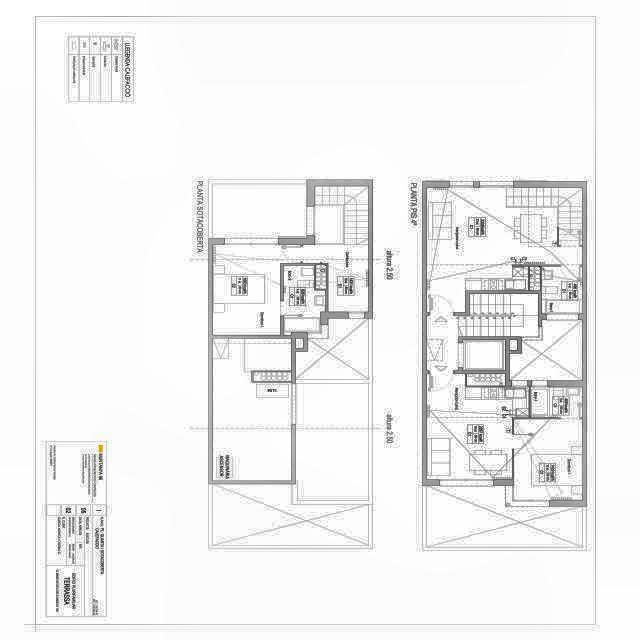room: (427, 188, 582, 264), (212, 338, 292, 481), (427, 374, 529, 480), (213, 245, 301, 335), (514, 419, 583, 500), (426, 265, 528, 313), (302, 246, 369, 312), (510, 320, 582, 381), (458, 294, 538, 337), (316, 186, 368, 245), (283, 265, 326, 336), (542, 266, 583, 314), (427, 316, 458, 370), (531, 387, 582, 418), (463, 340, 505, 370), (467, 374, 505, 386), (253, 372, 291, 381), (530, 266, 540, 290), (316, 265, 326, 289), (509, 340, 517, 350), (296, 338, 303, 348)
